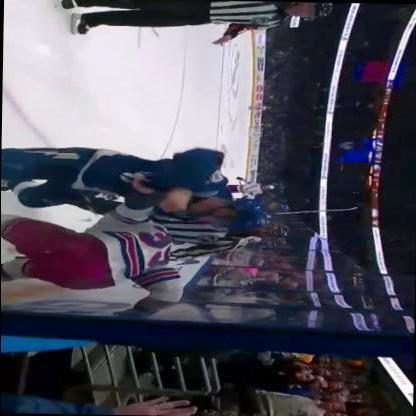non-Voilence: (57, 0, 335, 47)
voilence: (1, 144, 271, 314)
